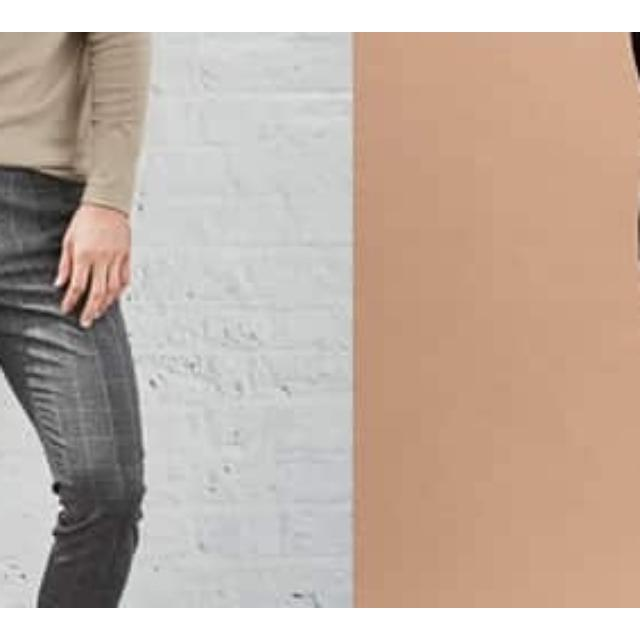wool: (0, 32, 144, 608)
